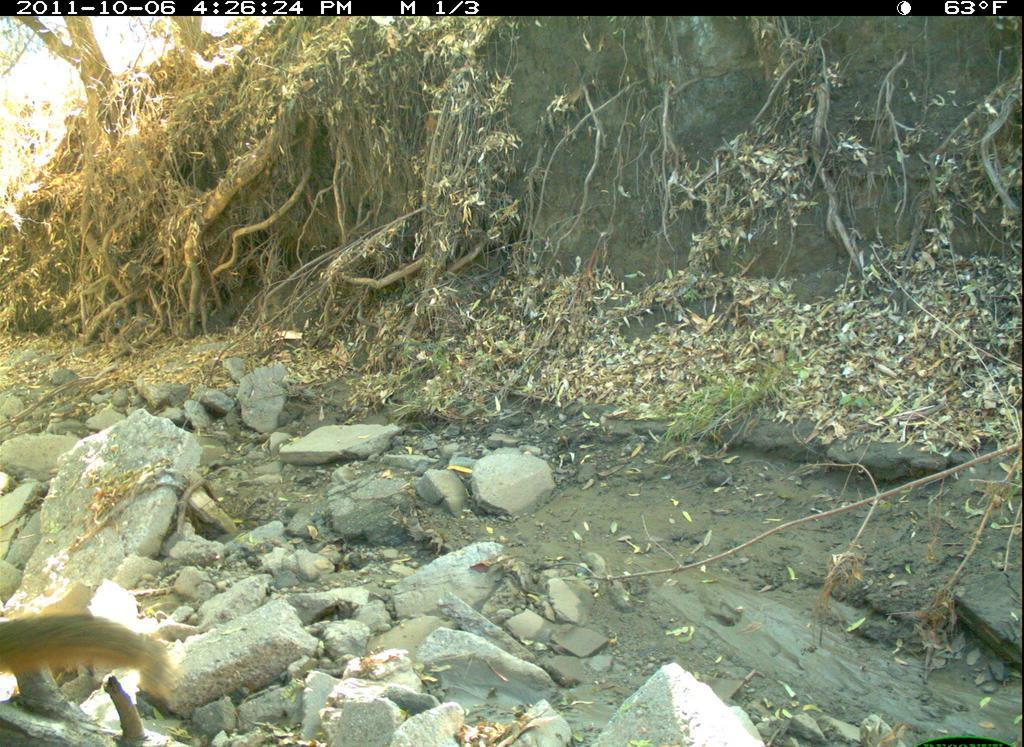squirrel: (2, 598, 183, 713)
